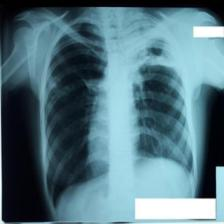tuberculosis: (37, 16, 200, 213)
